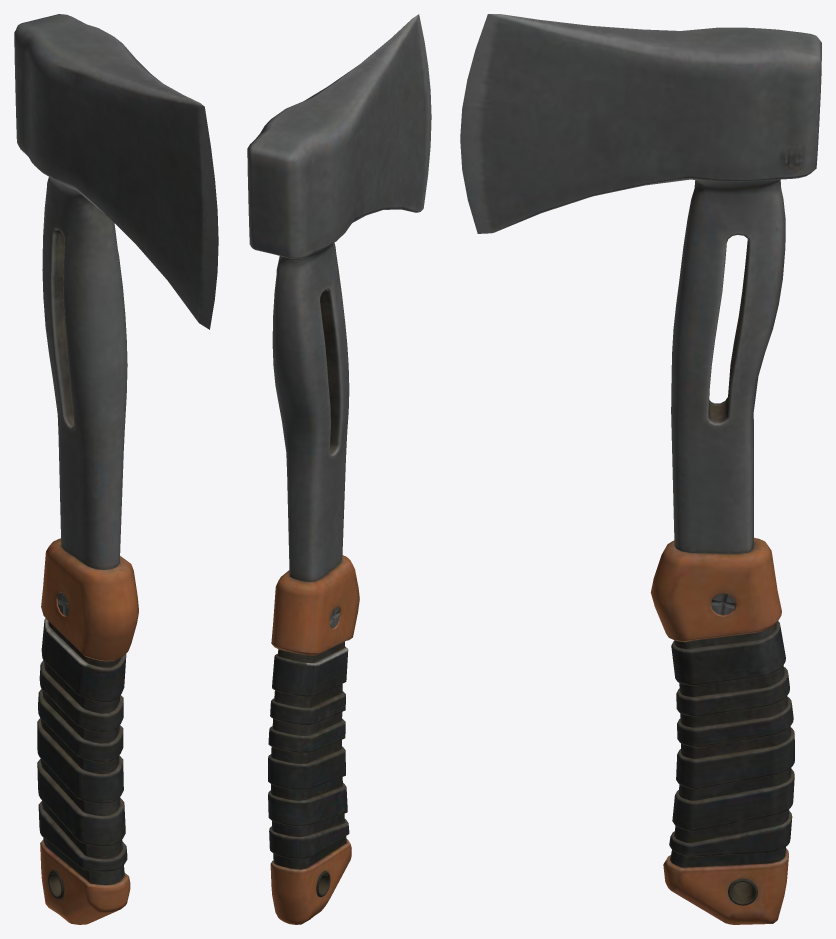
Rendered from wpn_frost_axe.glb.
The picture shows the model from 3 angles, left to right: view 1: azimuth 30°, elevation 25°; view 2: azimuth 150°, elevation 25°; view 3: azimuth 270°, elevation 25°; orthographic projection. The views are drawn at different scales.
Parts seen in each view (by area): view 1: WPN_FrostAxe; view 2: WPN_FrostAxe; view 3: WPN_FrostAxe.
Part boxes in pixels (x1,y1,x2,y2): WPN_FrostAxe: [14, 14, 218, 924]; WPN_FrostAxe: [247, 14, 431, 924]; WPN_FrostAxe: [460, 14, 821, 924].
Bounding box in the file's own units: 0.0829 × 0.92 × 0.3322.
Materials: 1 (1 with a texture image).
